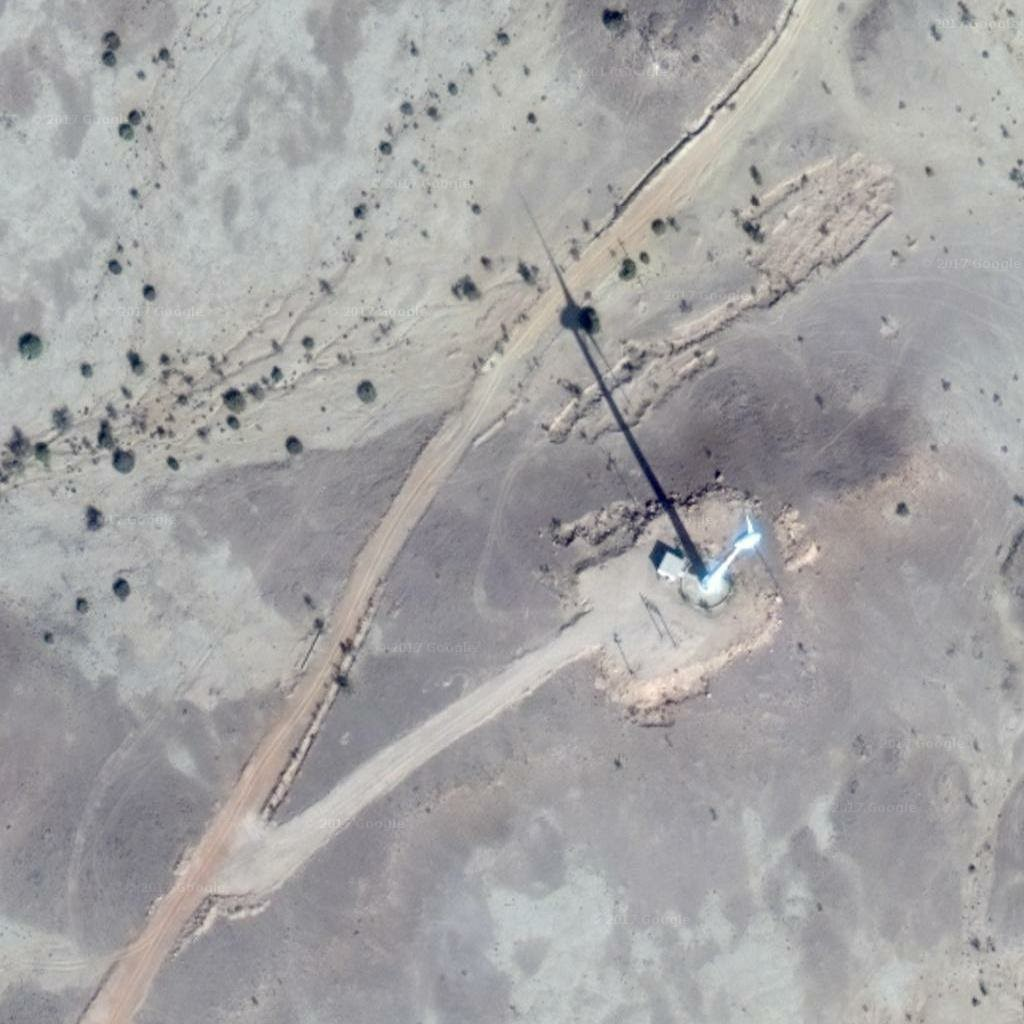Windmill: (493, 183, 743, 576)
